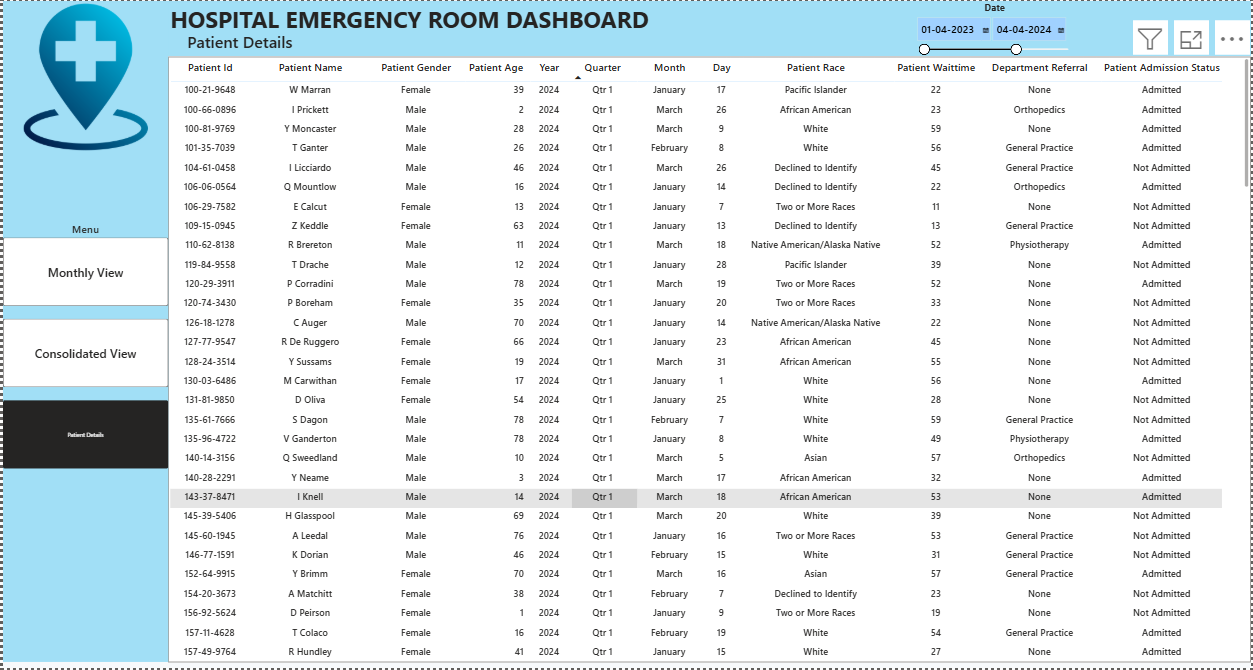

The dashboard page shown, as its layout file describes it:
{"tool":"powerbi","page":{"name":"Patient Details ","canvas":[2900,1550],"ordinal":2},"visuals":[{"type":"shape","box":[0,0,384,1536],"z":0,"group":"g1"},{"type":"shape","box":[384,0,2624,128],"z":0},{"type":"textbox","box":[384,0,1280,128],"z":1000,"group":"g1"},{"type":"slicer","title":"Date","fields":{"Values":["Date_table.Date"]},"box":[2112,0,384,128],"z":1000},{"type":"image","box":[0,0,384,352],"z":2000,"group":"g1"},{"type":"tableEx","fields":{"Values":["Hospital ER_Data.Patient Id","Hospital ER_Data.Patient Full Name","Hospital ER_Data.Patient Gender","Hospital ER_Data.Patient Age","Hospital ER_Data.Patient Admission Date.Variation.Date Hierarchy.Year","Hospital ER_Data.Patient Admission Date.Variation.Date Hierarchy.Quarter","Hospital ER_Data.Patient Admission Date.Variation.Date Hierarchy.Month","Hospital ER_Data.Patient Admission Date.Variation.Date Hierarchy.Day","Hospital ER_Data.Patient Race","Hospital ER_Data.Patient Waittime","Hospital ER_Data.Department Referral","Hospital ER_Data.Patient Admission Status"]},"box":[384,128,2516,1408],"z":2000},{"type":"group","id":"g1","title":"Group 1","box":[0,0,1664,1536],"z":3000},{"type":"pageNavigator","title":"Menu","box":[0,512,384,576],"z":3000,"group":"g1"},{"type":"textbox","box":[384,64,416,64],"z":3001}]}

Visuals, with their boxes in screenshot pixels (x1, y1, x2, y2), scaled from the page's 2900x1550 canvas onto the 1253x670 screenshot:
shape: pyautogui.locateOnScreen(0, 0, 166, 664)
shape: pyautogui.locateOnScreen(166, 0, 1252, 55)
textbox: pyautogui.locateOnScreen(166, 0, 719, 55)
"Date" slicer: pyautogui.locateOnScreen(913, 0, 1078, 55)
image: pyautogui.locateOnScreen(0, 0, 166, 152)
tableEx - Hospital ER_Data.Patient Id x Hospital ER_Data.Patient Full Name: pyautogui.locateOnScreen(166, 55, 1252, 664)
"Group 1" group: pyautogui.locateOnScreen(0, 0, 719, 664)
"Menu" pageNavigator: pyautogui.locateOnScreen(0, 221, 166, 470)
textbox: pyautogui.locateOnScreen(166, 28, 346, 55)
